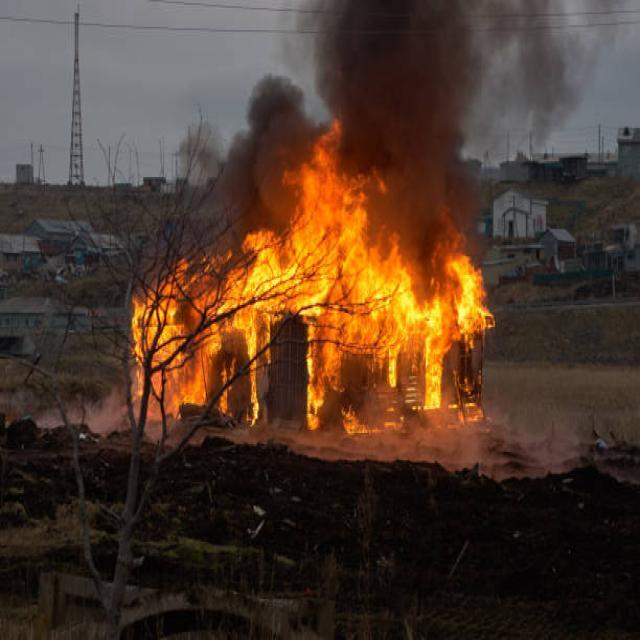Fire: (276, 113, 494, 436), (134, 234, 340, 424)
Smoke: (313, 0, 636, 126), (357, 89, 477, 295), (200, 86, 320, 242)
